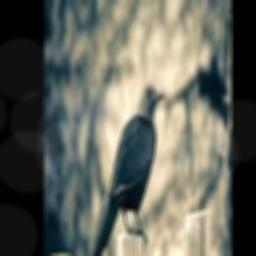Crow: (90, 80, 164, 256)
